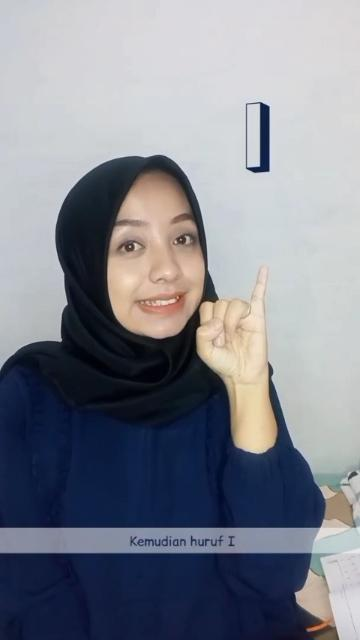I: (198, 264, 272, 388)
